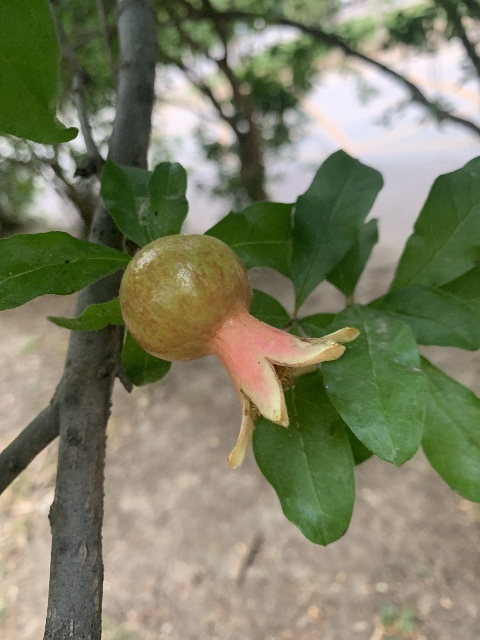early-fruit: (120, 234, 356, 470)
